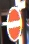No entry: (5, 6, 24, 39)
